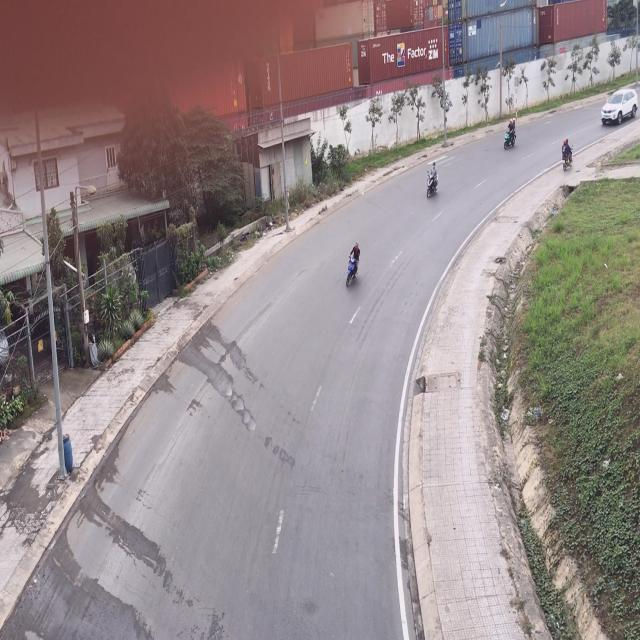car: (601, 87, 639, 128)
motorbike: (345, 241, 361, 291), (425, 160, 440, 200), (501, 118, 517, 152), (562, 138, 574, 174)
